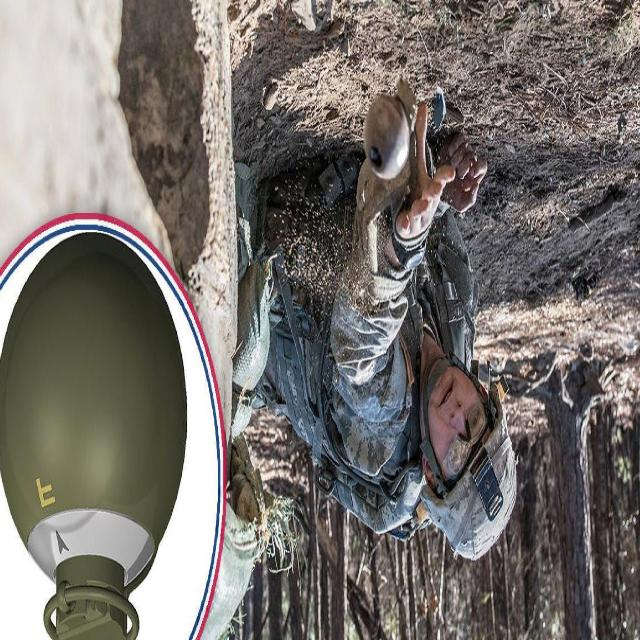grenade: (1, 232, 188, 640), (1, 235, 188, 640), (364, 76, 420, 182)
